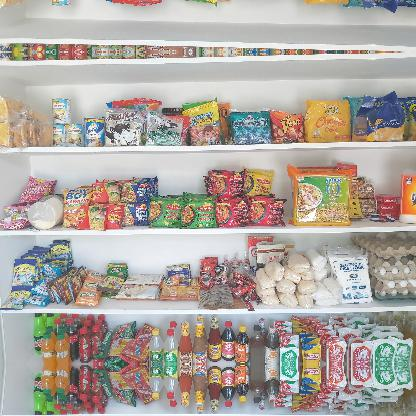Lady-s-Choice: (27, 194, 67, 230)
